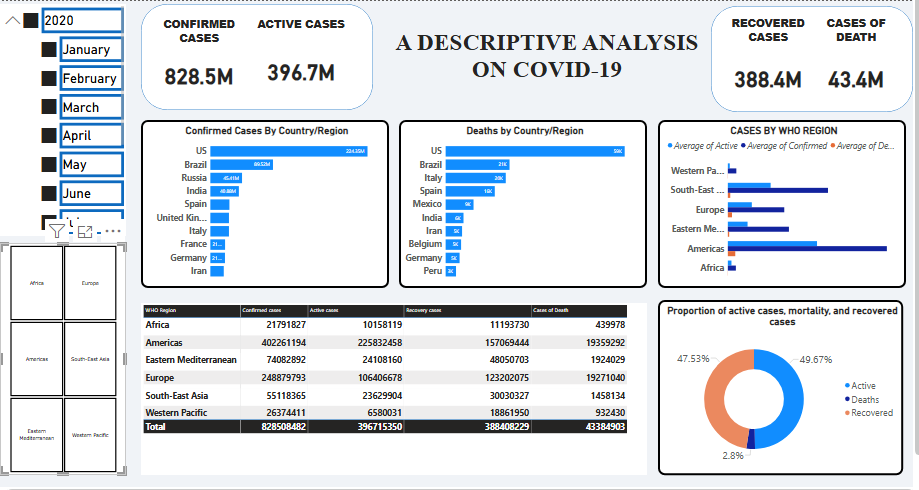

This screenshot's page, from the dashboard's own definition file:
{"tool":"powerbi","page":{"name":"Page 1","canvas":[2300,1300],"ordinal":0},"visuals":[{"type":"shape","box":[1795,12.5,505,265],"z":0},{"type":"shape","box":[370,7.5,580,265],"z":1000},{"type":"card","title":"CONFIRMED CASES","fields":{"Values":["covid_19_project.Total_confirmed_cases"]},"box":[387.5,37.5,255,212.5],"z":2000},{"type":"clusteredBarChart","title":"CASES BY WHO REGION","fields":{"Y":["Avg(covid_19_project.Active)","Avg(covid_19_project.Confirmed)","Avg(covid_19_project.Deaths)"],"Category":["covid_19_project.WHO Region"]},"box":[1662.5,297.5,620,420],"z":3000},{"type":"card","title":"ACTIVE CASES","fields":{"Values":["Sum(covid_19_project.Active)"]},"box":[642.5,37.5,255,230],"z":4000},{"type":"card","title":"CASES OF DEATH","fields":{"Values":["Sum(covid_19_project.Deaths)"]},"box":[2047.5,35,220,232.5],"z":5000},{"type":"card","title":"RECOVERED CASES","fields":{"Values":["Sum(covid_19_project.Recovered)"]},"box":[1827.5,35,220,232.5],"z":6000},{"type":"slicer","fields":{"Values":["covid_19_project.Date.Variation.Date Hierarchy.Year","covid_19_project.Date.Variation.Date Hierarchy.Month"]},"box":[17.5,7.5,315,580],"z":7000},{"type":"clusteredBarChart","title":"Confirmed Cases By Country/Region","fields":{"Category":["covid_19_project.Country/Region"],"Y":["covid_19_project.Total_confirmed_cases"]},"box":[370,297.5,620,420],"z":8000},{"type":"clusteredBarChart","title":"Deaths by Country/Region","fields":{"Category":["covid_19_project.Country/Region"],"Y":["Sum(covid_19_project.Deaths)"]},"box":[1015,297.5,620,420],"z":9000},{"type":"tableEx","fields":{"Values":["covid_19_project.WHO Region","Sum(covid_19_project.Confirmed)","Sum(covid_19_project.Active)","Sum(covid_19_project.Recovered)","Sum(covid_19_project.Deaths)"]},"box":[370,755,1265,430],"z":10000},{"type":"textbox","box":[990,65,790,147.5],"z":11000},{"type":"slicer","fields":{"Values":["covid_19_project.WHO Region"]},"box":[17.5,605,315,580],"z":12000},{"type":"donutChart","title":"Proportion of active cases, mortality, and recovered cases","fields":{"Y":["Avg(covid_19_project.Percentage_active)","Avg(covid_19_project.percentage_death)","Avg(covid_19_project.Percentage_recovered)"]},"box":[1662.5,747.5,612.5,437.5],"z":13000}]}

Visuals, with their boxes on the page's 2300x1300 design canvas (x1, y1, x2, y2). These are canvas units, not pixel positions in the 919x490 screenshot, which may show the page scaled, cropped or inside an application window:
shape: pyautogui.locateOnScreen(1795, 12, 2300, 278)
shape: pyautogui.locateOnScreen(370, 8, 950, 272)
"CONFIRMED CASES" card: pyautogui.locateOnScreen(388, 38, 642, 250)
"CASES BY WHO REGION" clusteredBarChart: pyautogui.locateOnScreen(1662, 298, 2282, 718)
"ACTIVE CASES" card: pyautogui.locateOnScreen(642, 38, 898, 268)
"CASES OF DEATH" card: pyautogui.locateOnScreen(2048, 35, 2268, 268)
"RECOVERED CASES" card: pyautogui.locateOnScreen(1828, 35, 2048, 268)
slicer - covid_19_project.Date.Variation.Date Hierarchy.Year x covid_19_project.Date.Variation.Date Hierarchy.Month: pyautogui.locateOnScreen(18, 8, 332, 588)
"Confirmed Cases By Country/Region" clusteredBarChart: pyautogui.locateOnScreen(370, 298, 990, 718)
"Deaths by Country/Region" clusteredBarChart: pyautogui.locateOnScreen(1015, 298, 1635, 718)
tableEx - covid_19_project.WHO Region x Sum(covid_19_project.Confirmed): pyautogui.locateOnScreen(370, 755, 1635, 1185)
textbox: pyautogui.locateOnScreen(990, 65, 1780, 212)
slicer - covid_19_project.WHO Region: pyautogui.locateOnScreen(18, 605, 332, 1185)
"Proportion of active cases, mortality, and recovered cases" donutChart: pyautogui.locateOnScreen(1662, 748, 2275, 1185)
